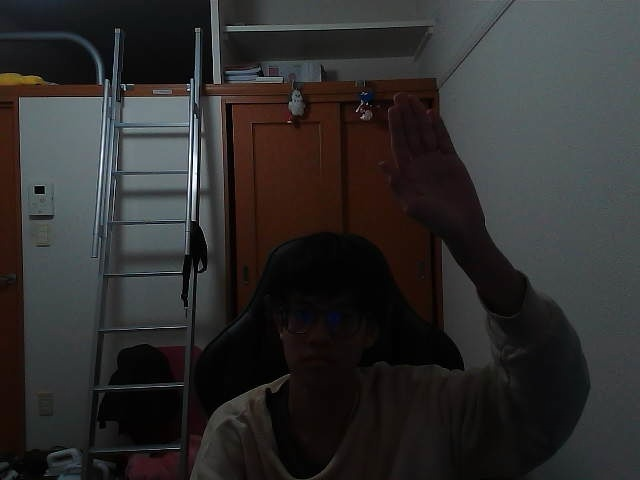open_palm: (384, 100, 452, 213)
